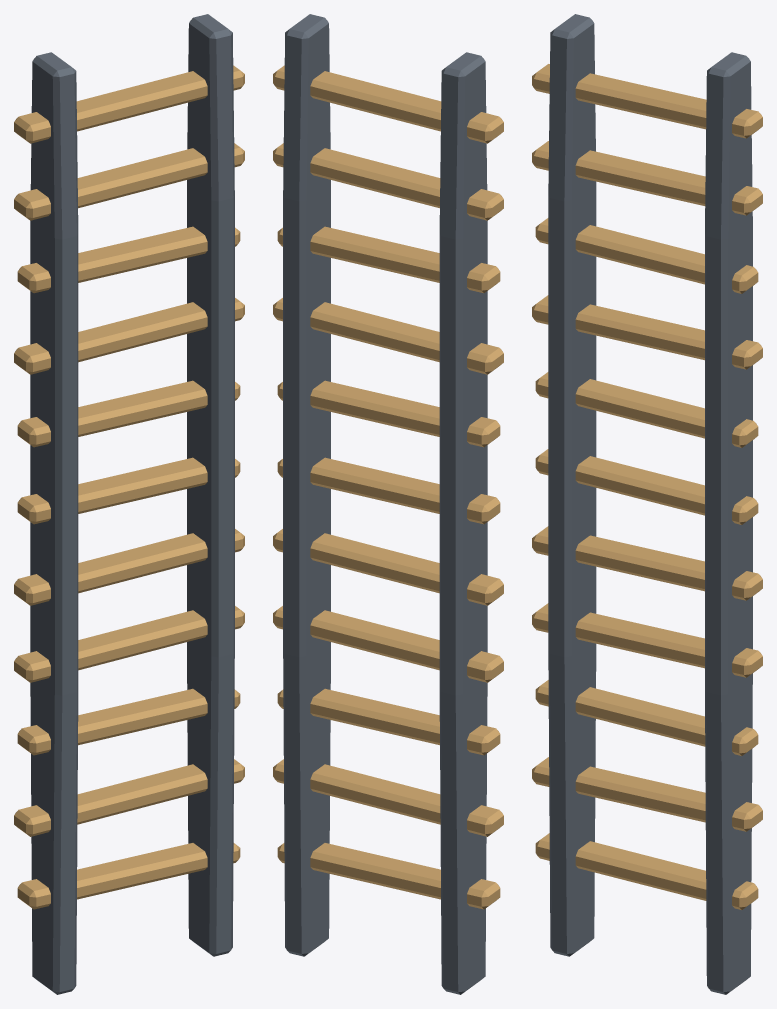
File: ladder_along.gltf
The picture shows the model from 3 angles, left to right: view 1: azimuth 30°, elevation 25°; view 2: azimuth 150°, elevation 25°; view 3: azimuth 330°, elevation 25°; orthographic projection.
Parts seen in each view (by area): view 1: ladder_along001; view 2: ladder_along001; view 3: ladder_along001.
Boxes of the visible parts, <box> form: ladder_along001: <box>14,14,244,994</box>; ladder_along001: <box>273,14,503,994</box>; ladder_along001: <box>532,14,762,994</box>.
Size of the model in its own units: 0.7437 by 3 by 0.18.
Materials: 1 (1 with a texture image).
